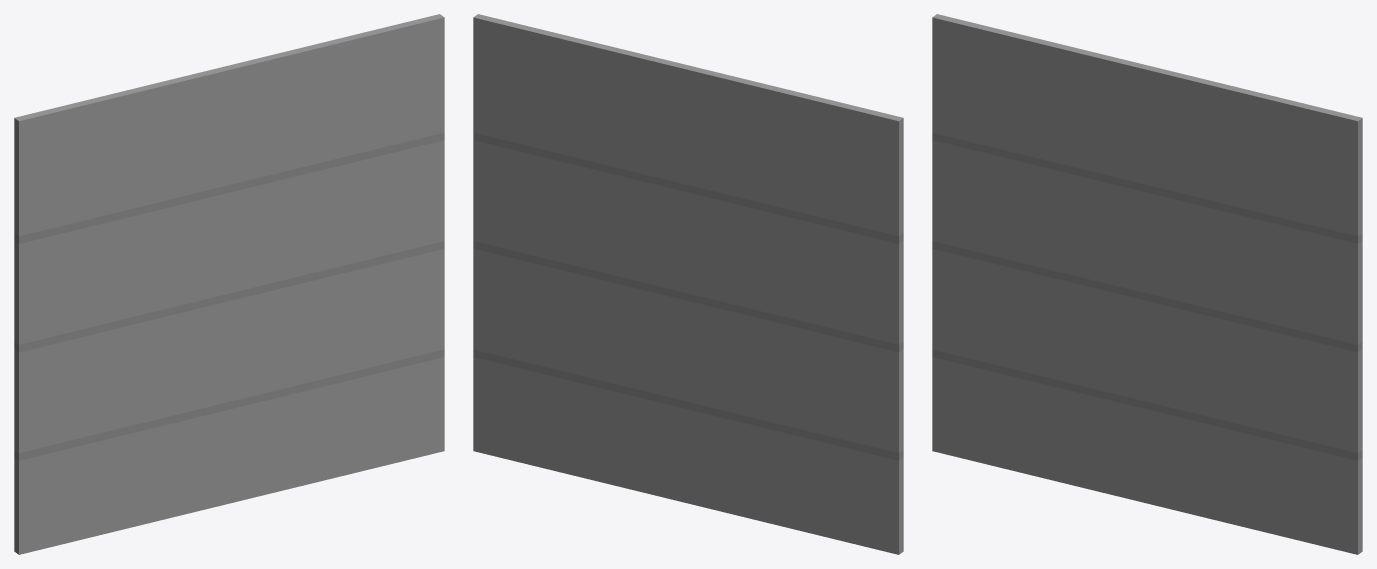
File: AutoService_01_2.glb
3 views of the same model, side by side, from view 1: azimuth 30°, elevation 25°; view 2: azimuth 150°, elevation 25°; view 3: azimuth 330°, elevation 25° (orthographic).
Visible parts, largest first — view 1: AutoService_01_2; view 2: AutoService_01_2; view 3: AutoService_01_2.
Part boxes in pixels (x1,y1,x2,y2): AutoService_01_2: (14,14,444,554); AutoService_01_2: (473,14,903,554); AutoService_01_2: (932,14,1362,554).
Bounding box in the file's own units: 2.6 × 2.53 × 0.05.
1 material, 1 textured.
